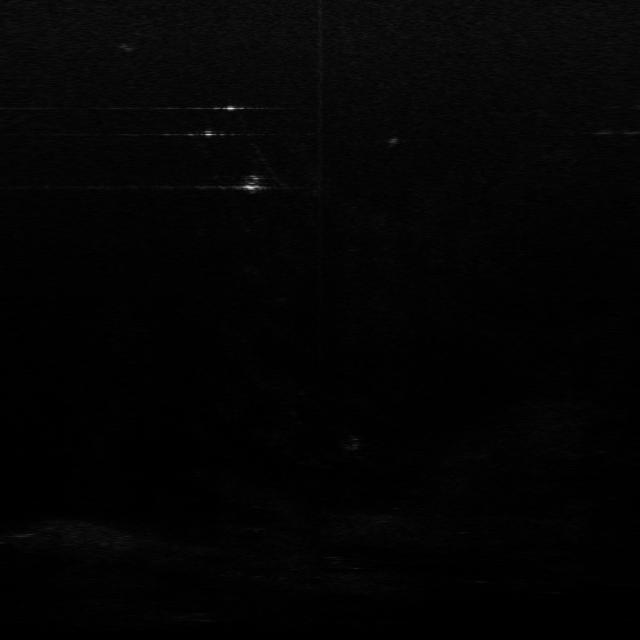rov: (239, 174, 263, 195)
